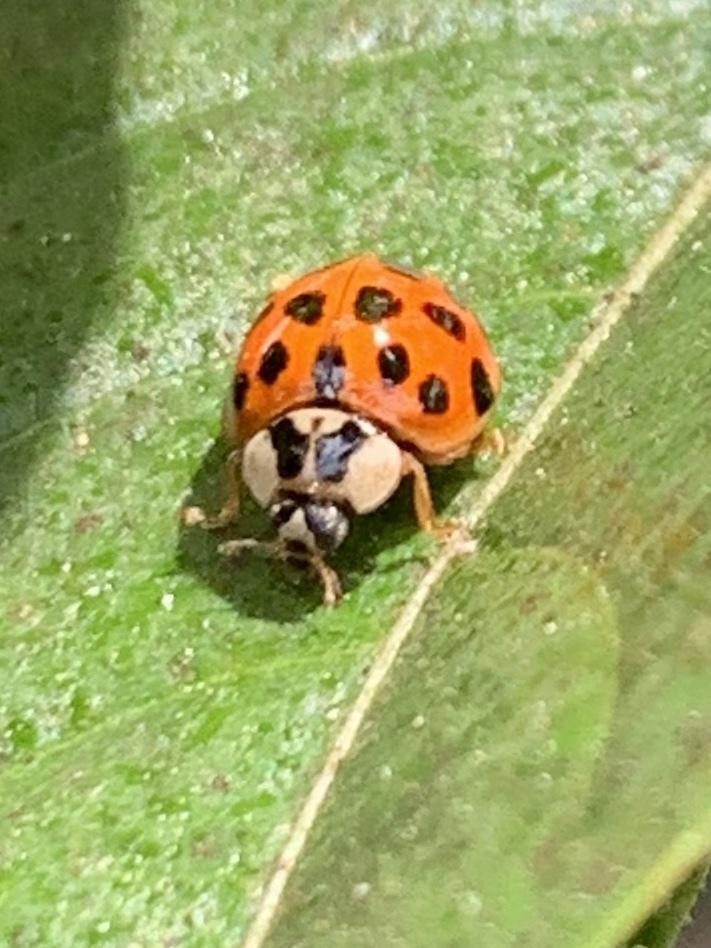ladybug: (186, 251, 514, 609)
